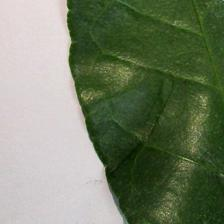healthy: (66, 0, 224, 224)
